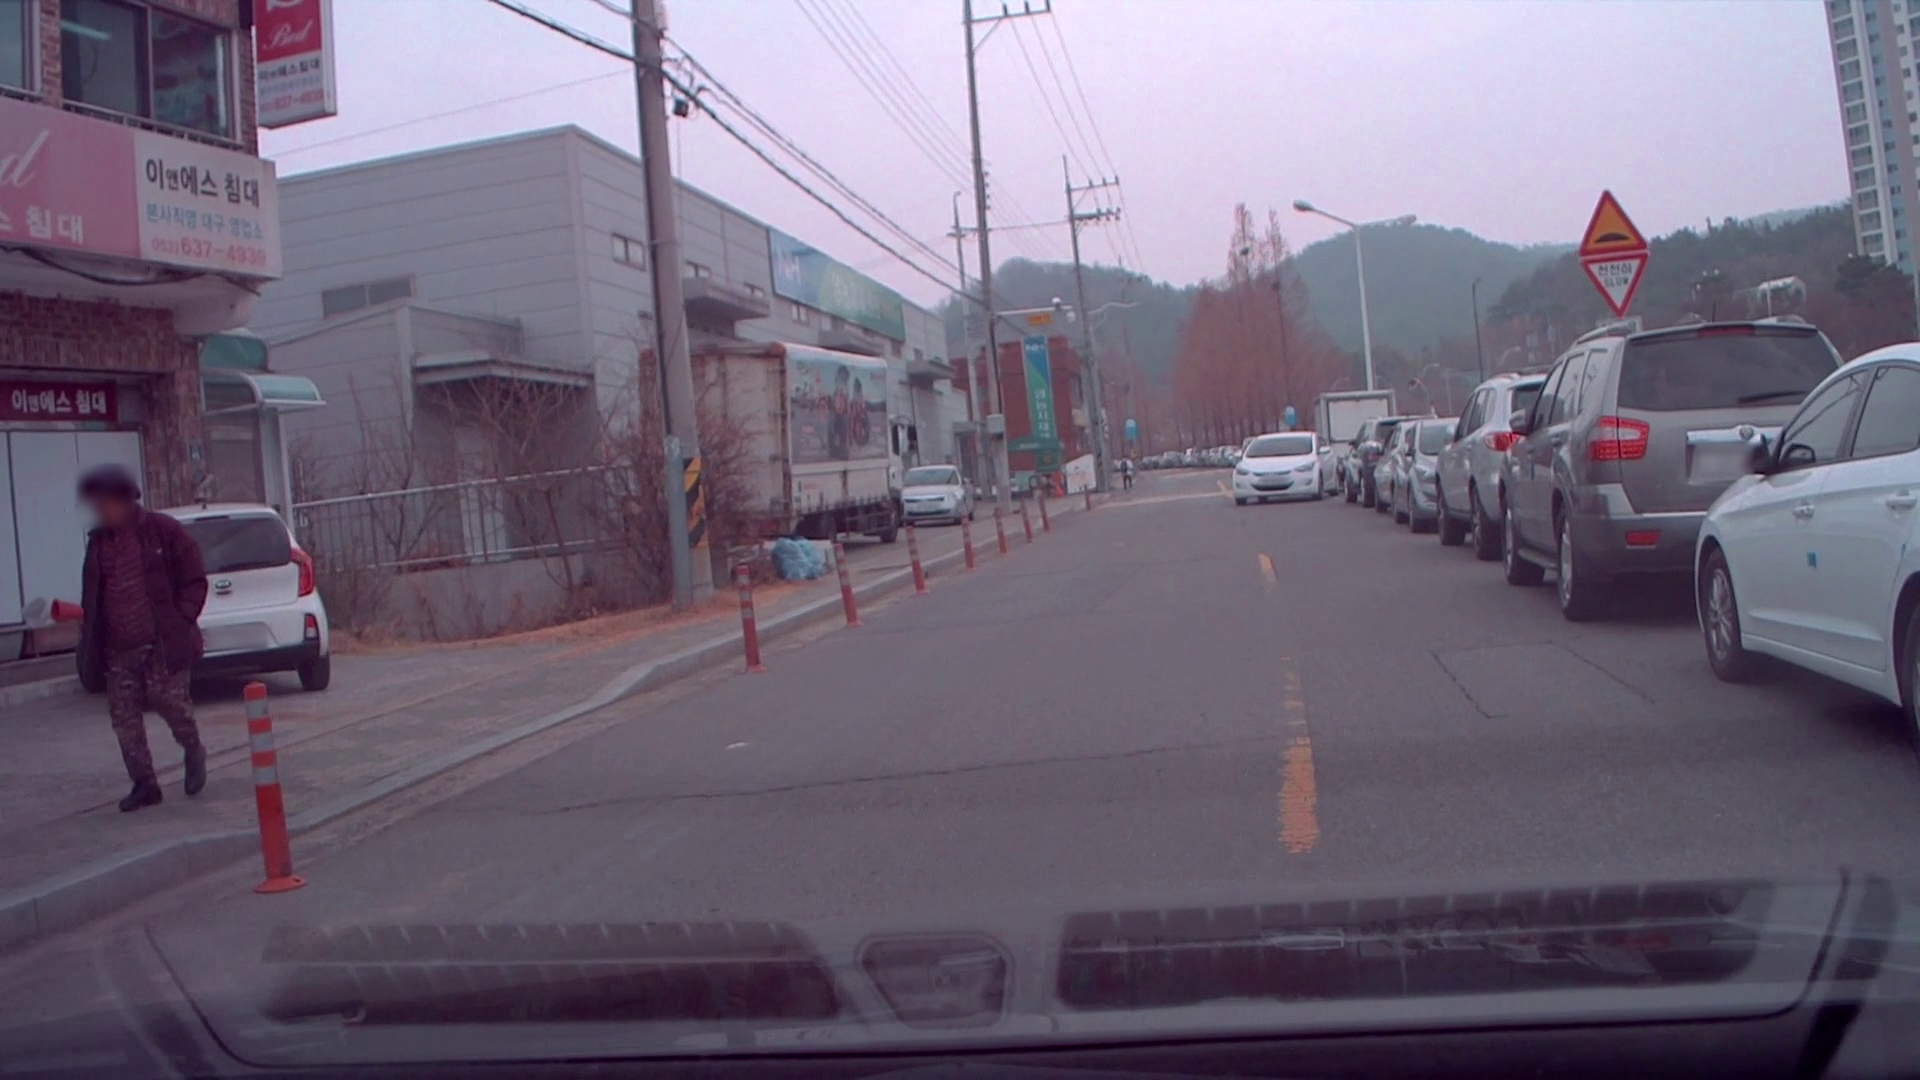trafficSignTri: (1581, 190, 1651, 255), (1584, 258, 1642, 319)
